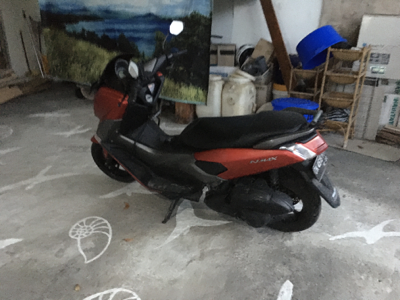moto: (88, 45, 345, 238)
